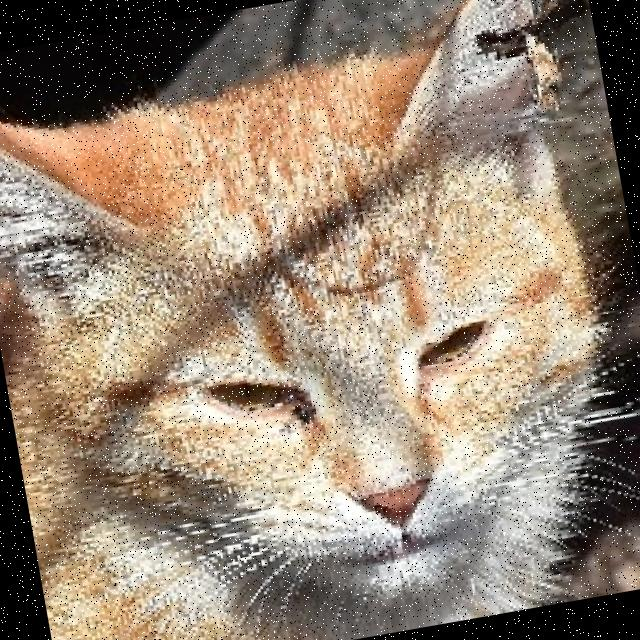Angry: (84, 249, 561, 640)
